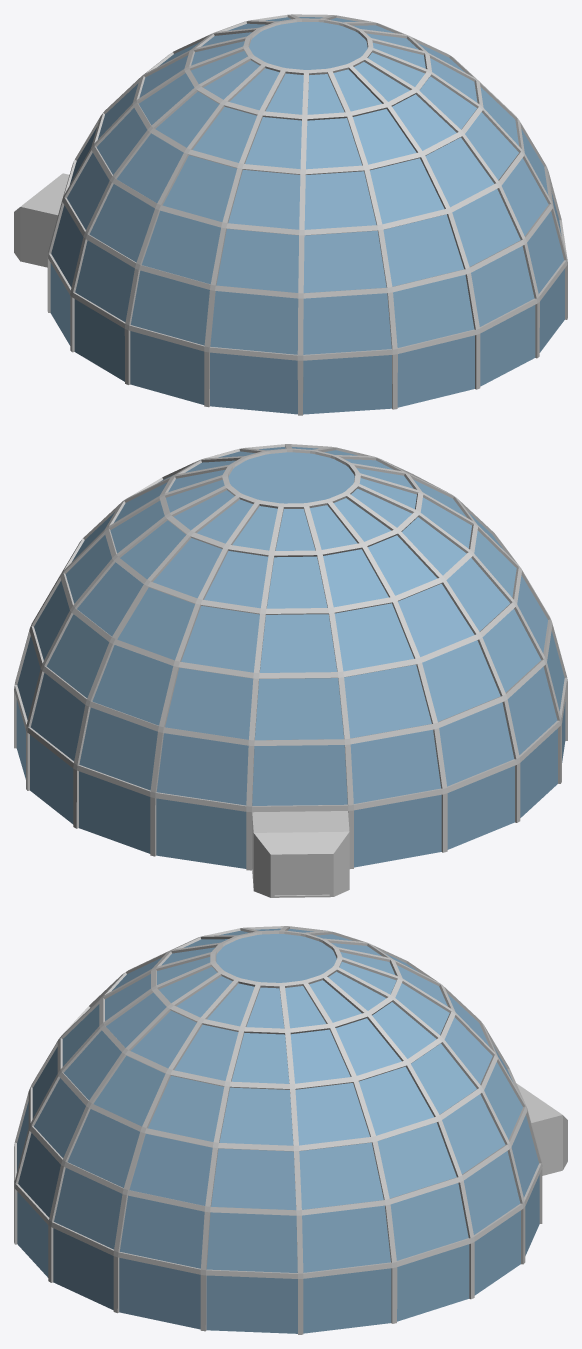
Rendered from geodesic-dome.glb.
The picture shows the model from 3 angles, top to bottom: view 1: azimuth 30°, elevation 25°; view 2: azimuth 150°, elevation 25°; view 3: azimuth 270°, elevation 25°; orthographic projection. The views are drawn at different scales.
Parts seen in each view (by area): view 1: Sphere.004; view 2: Sphere.004; view 3: Sphere.004.
Boxes of the visible parts, x1=… form: Sphere.004: x1=14, y1=14, x2=567, y2=415; Sphere.004: x1=14, y1=444, x2=567, y2=897; Sphere.004: x1=14, y1=926, x2=567, y2=1334.
Size of the model in its own units: 1.69 by 0.9329 by 1.76.
